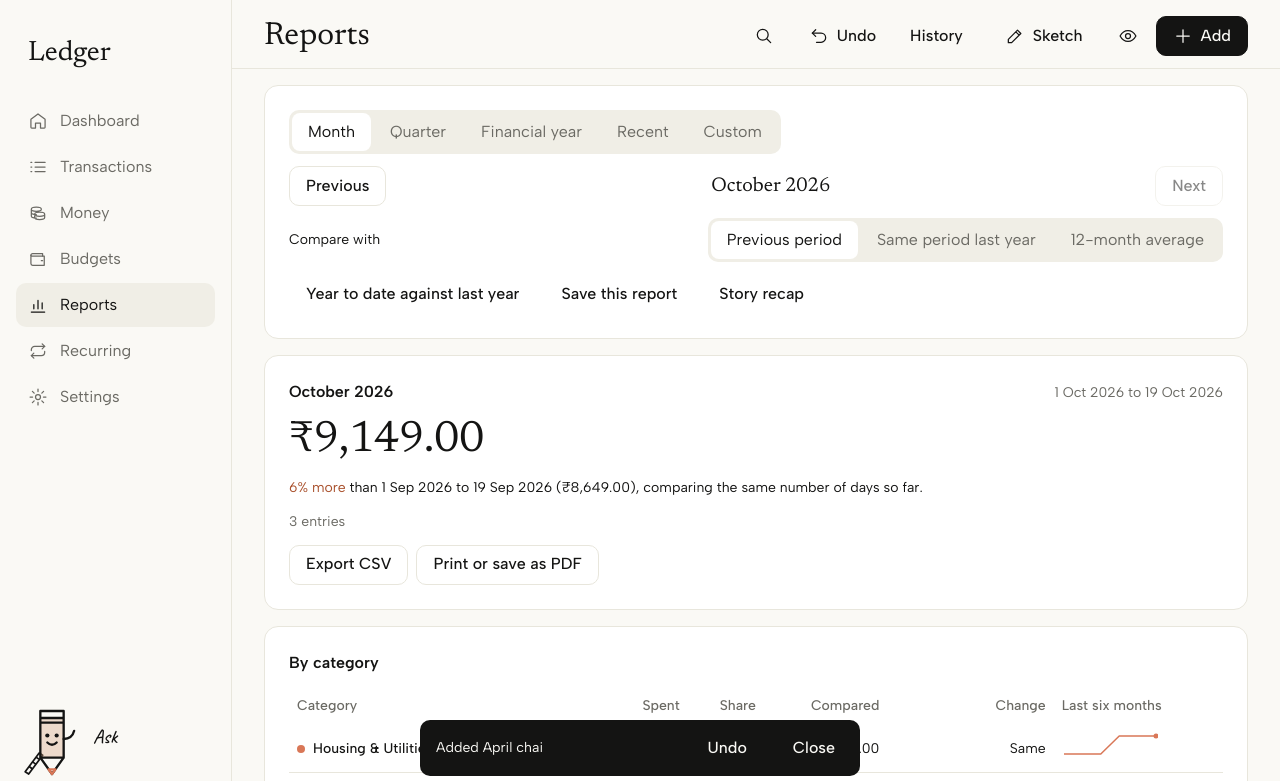
it: reports › splits the financial year at 1 April
The image size is (1280, 781).
Click the button "Financial year".
click(532, 132)  # box [465,113,598,151]
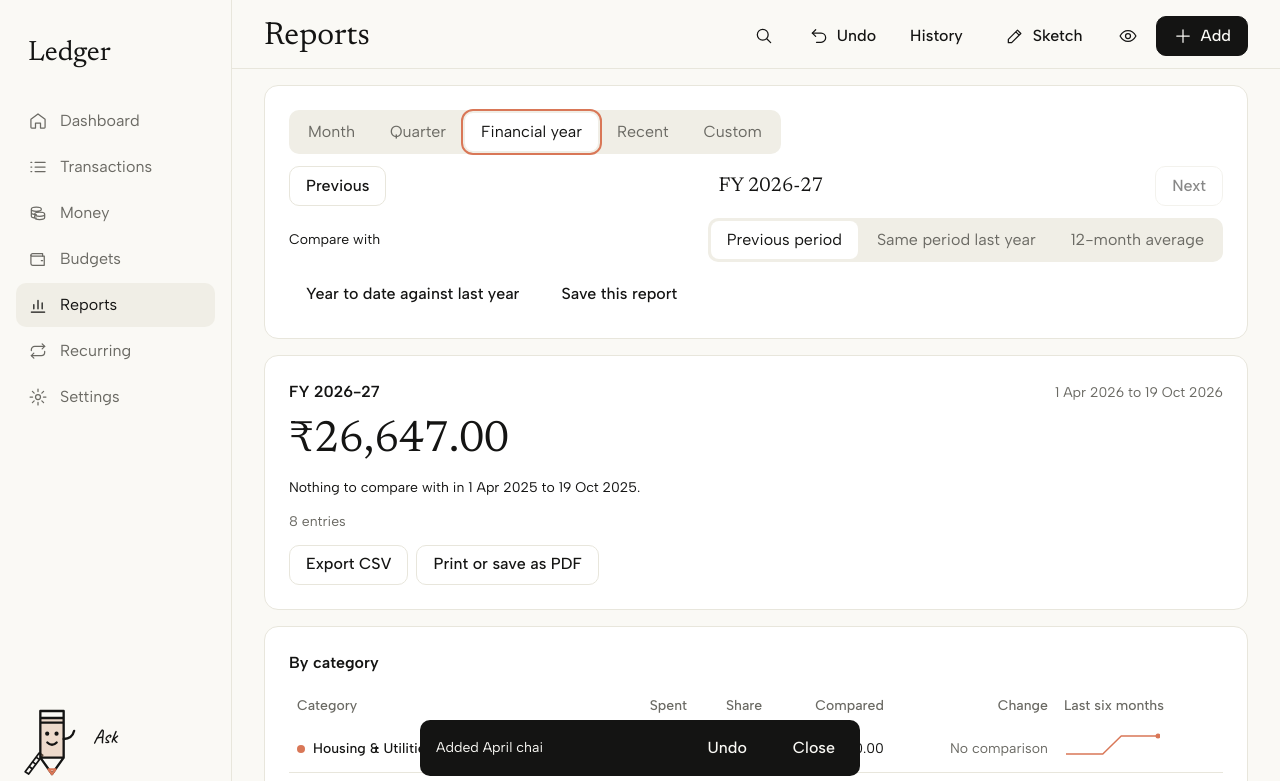
Now the text "FY 2026-27" is shown, box [718,176,823,196]
Click the button "Previous".
click(338, 186)  # box [289,166,386,206]
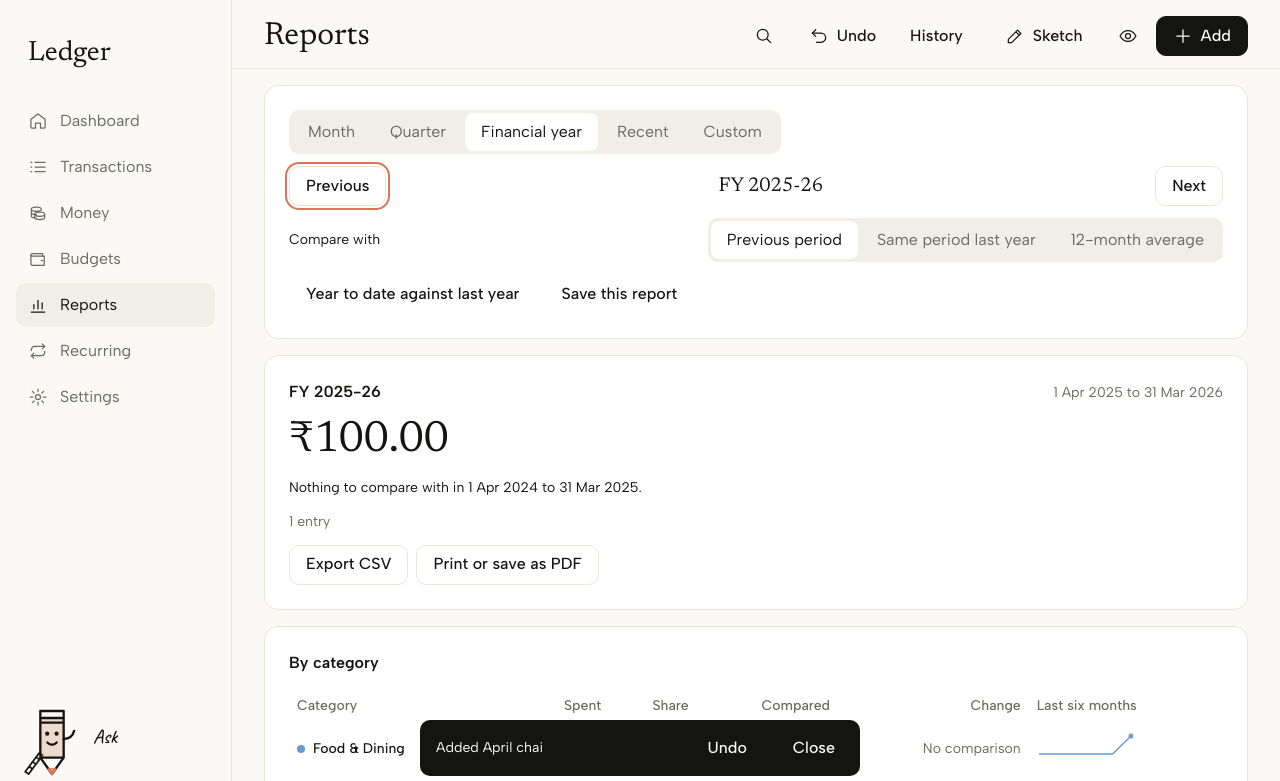
Now the text "FY 2025-26" is shown, box [718,176,823,196]
